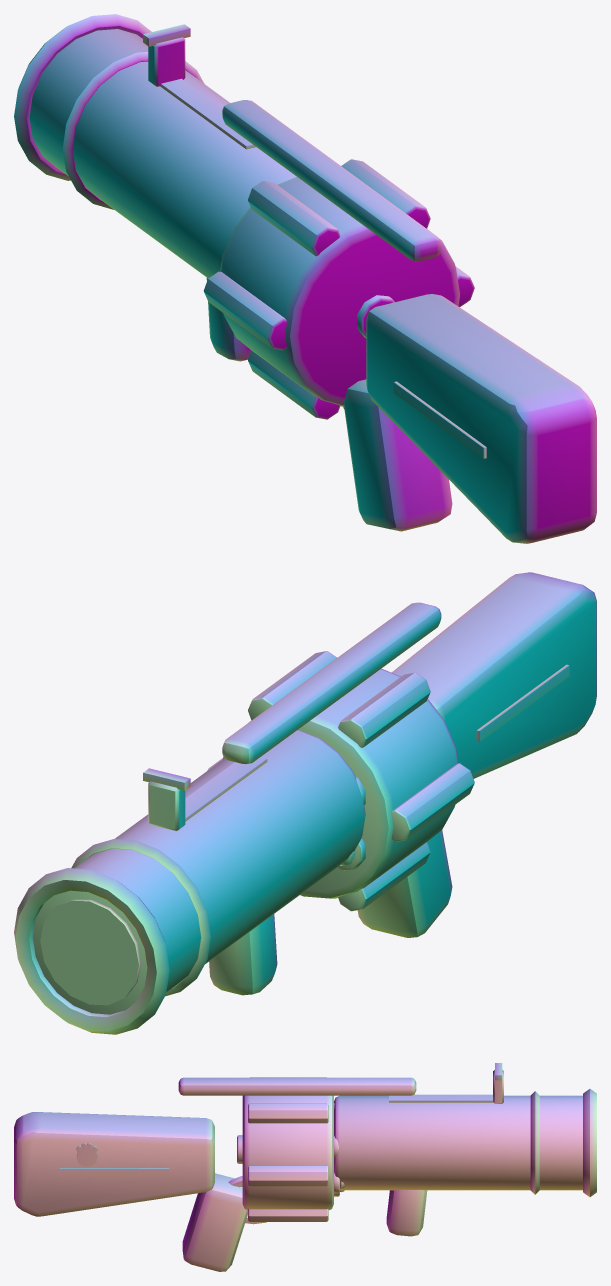
Rendered from wpn_gl.glb.
The picture shows the model from 3 angles, top to bottom: view 1: azimuth 30°, elevation 25°; view 2: azimuth 150°, elevation 25°; view 3: azimuth 270°, elevation 25°; orthographic projection. The views are drawn at different scales.
Parts seen in each view (by area): view 1: wpn_gl_mesh; view 2: wpn_gl_mesh; view 3: wpn_gl_mesh.
Part boxes in pixels (box(x1,y1,x2,y2)): wpn_gl_mesh: box(14, 14, 596, 543); wpn_gl_mesh: box(14, 572, 596, 1034); wpn_gl_mesh: box(14, 1063, 596, 1271).
Size of the model in its own units: 0.08 by 0.1187 by 0.3188.
